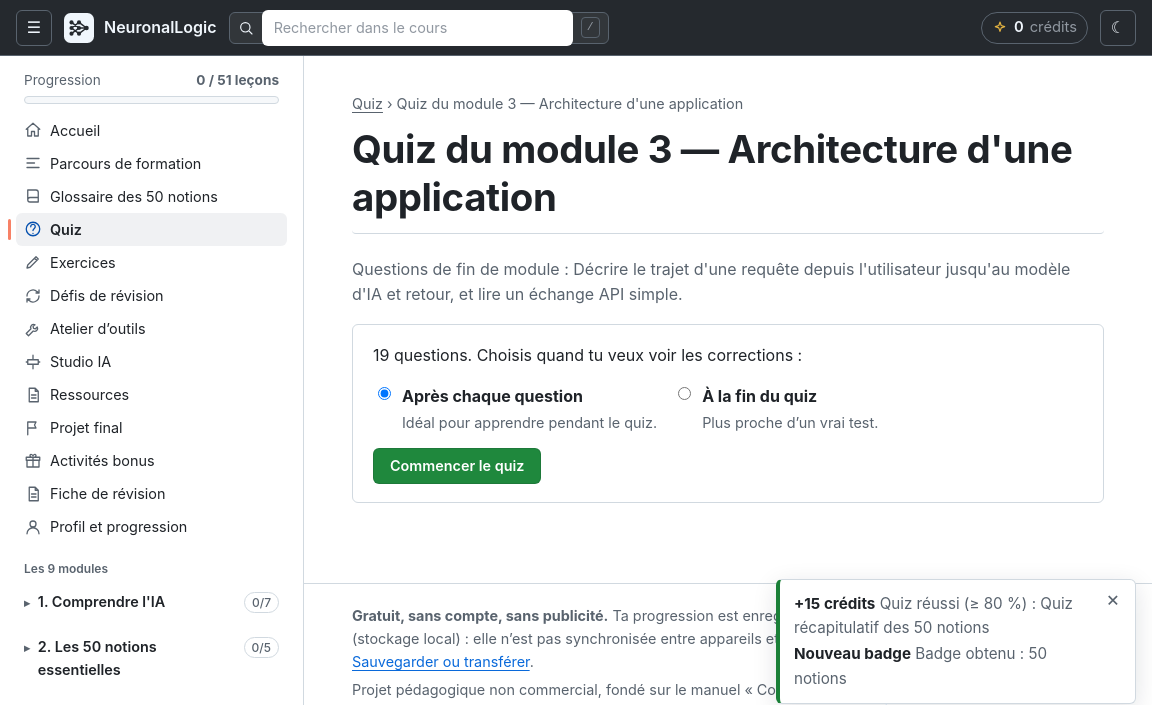
quiz › propose le mode « correction à la fin » : aucune explication avant le score
Click the radio button labelled "À la fin du quiz" at (685, 394), box 678,387 -> 691,400
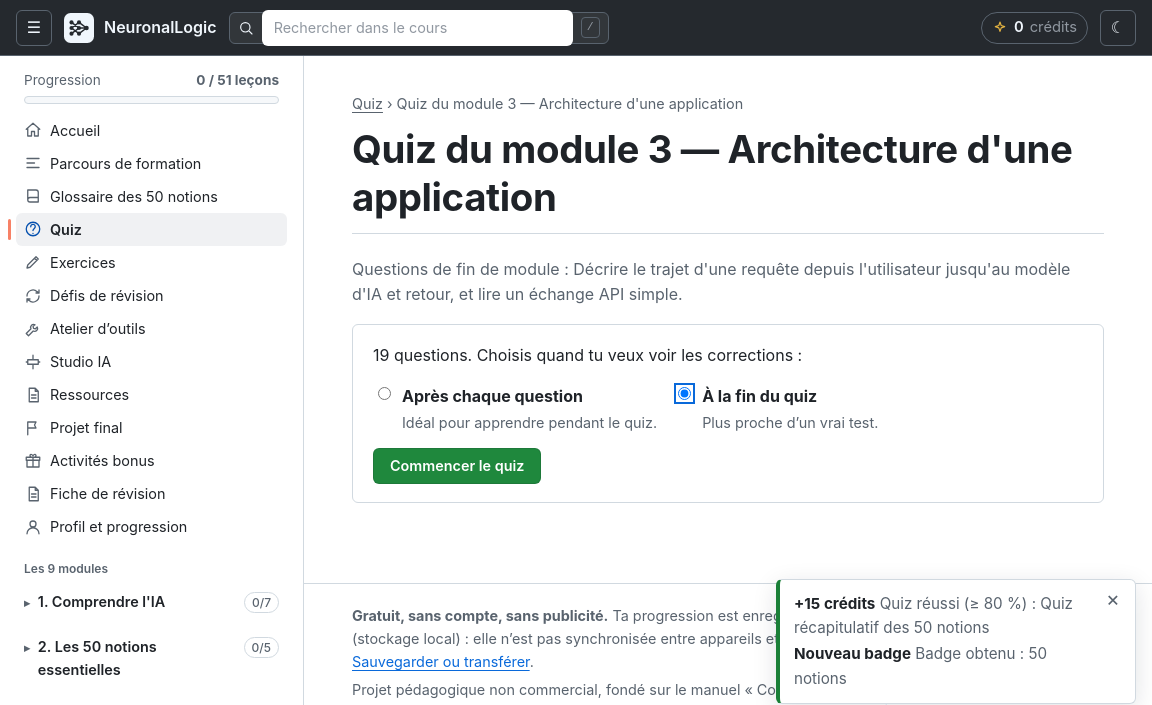
Click the button "Commencer le quiz" at (457, 466), box 373,448 -> 541,484
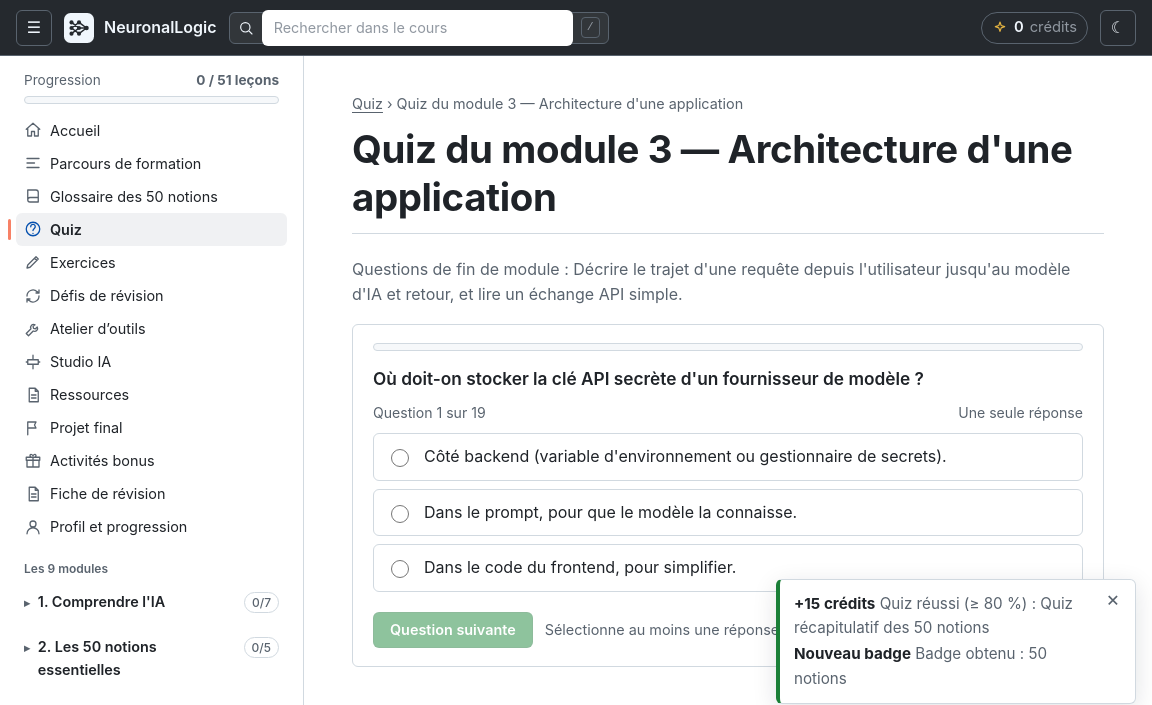
Click the 1st radio button at (400, 458), box 391,449 -> 409,467
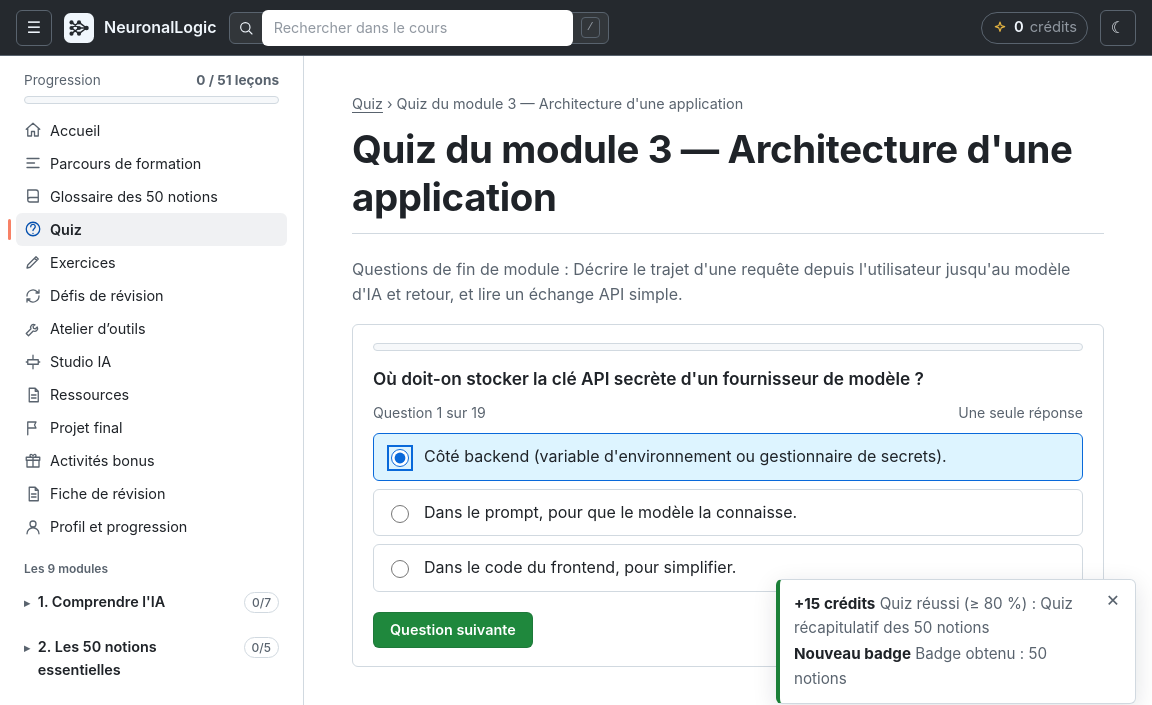
Click the button "Question suivante" at (453, 630), box 373,612 -> 533,648
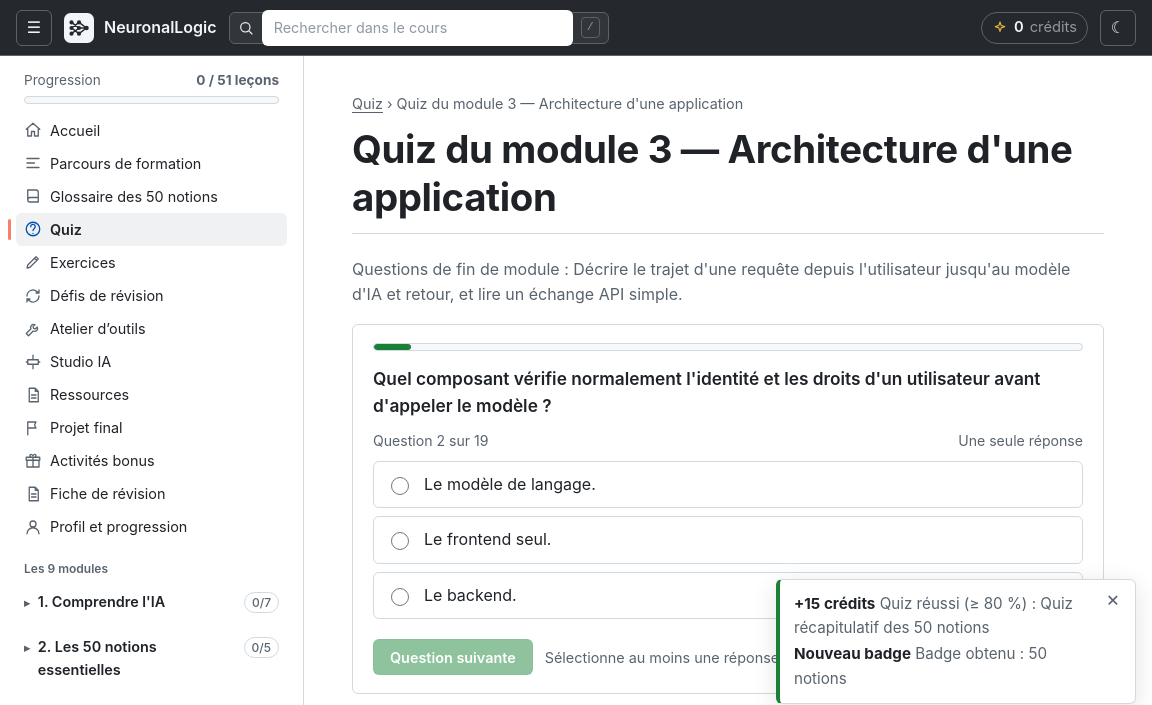
expect the text "Question 2 sur 19" is shown: met, box 373,430 -> 488,453
